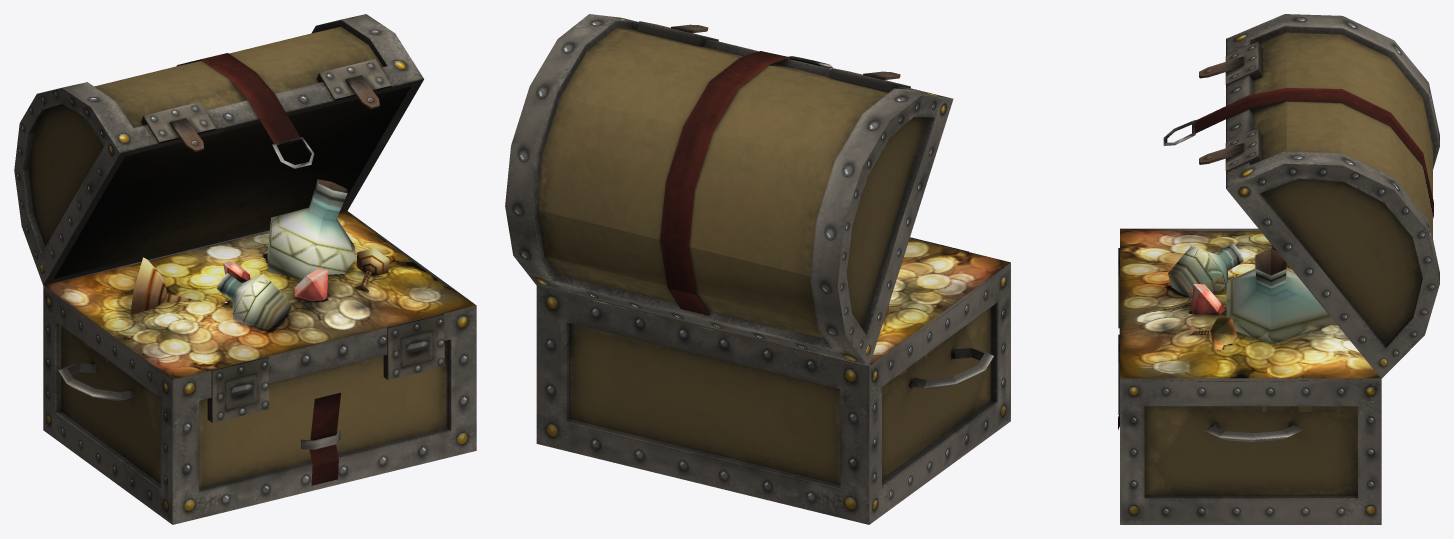
Rendered from MedievalChest_01_open.fbx.
3 views of the same model, side by side, from view 1: azimuth 30°, elevation 25°; view 2: azimuth 150°, elevation 25°; view 3: azimuth 270°, elevation 25° (orthographic). The views are drawn at different scales.
Parts seen in each view (by area): view 1: Medieval_chest_01_open, Truesure3; view 2: Medieval_chest_01_open, Truesure3; view 3: Medieval_chest_01_open, Truesure3.
Boxes of the visible parts, bbox=[...] form: Medieval_chest_01_open: bbox=[14, 14, 476, 524]; Truesure3: bbox=[44, 179, 476, 379]; Medieval_chest_01_open: bbox=[505, 14, 1010, 524]; Truesure3: bbox=[552, 239, 1010, 365]; Medieval_chest_01_open: bbox=[1118, 14, 1439, 524]; Truesure3: bbox=[1119, 228, 1380, 381].
Bounding box in the file's own units: 28.62 × 25.36 × 25.5.
